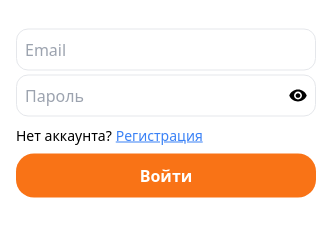
Test: Login › Должен проверить что если  пароль  больше 15 символов то будет предупреждение Максимум 15 символов
Type "12345678912345679786" into the password field with placeholder "Пароль" at (166, 96), box [16,74,316,116]
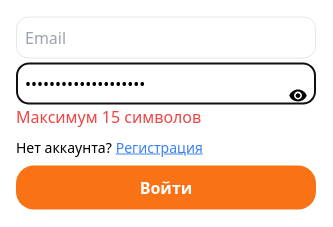
Result: the text "Максимум 15 символов" is shown at [16,106,201,128]
